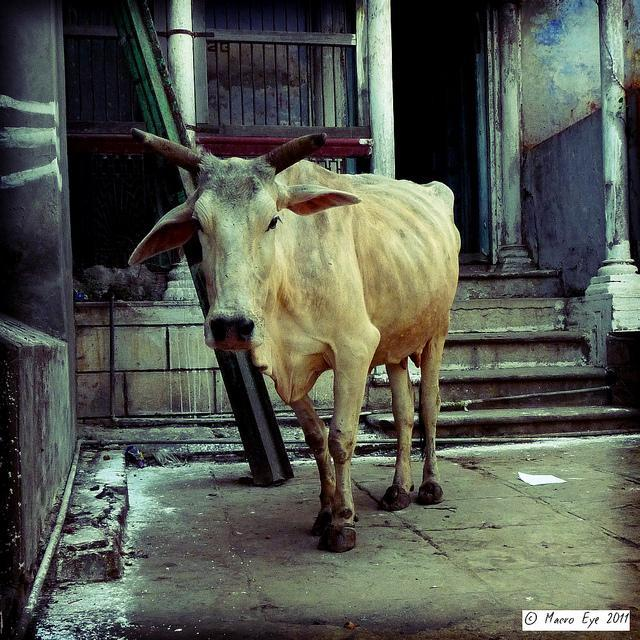cow: (120, 124, 459, 552)
